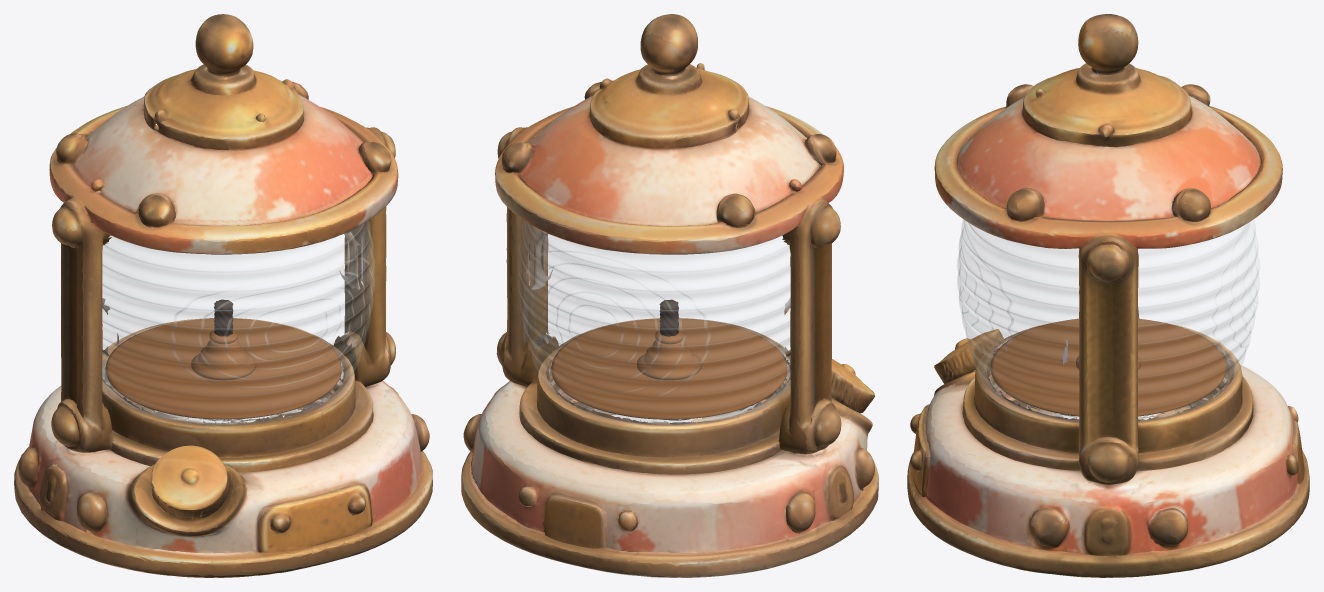
File: B9_灯塔灯头_v4.glb
3 views of the same model, side by side, from view 1: azimuth 30°, elevation 25°; view 2: azimuth 150°, elevation 25°; view 3: azimuth 270°, elevation 25° (orthographic).
Parts seen in each view (by area): view 1: Lux3D_original_cap_frame_base, Rebuilt_glass_barrel, Burner_interior_plate, Rebuilt_burner_base, Front_fresnel_04, Rebuilt_unlit_wick, Front_fresnel_03; view 2: Lux3D_original_cap_frame_base, Rebuilt_glass_barrel, Burner_interior_plate, Rebuilt_burner_base, Rear_fresnel_04, Rebuilt_unlit_wick, Rear_fresnel_03; view 3: Lux3D_original_cap_frame_base, Rebuilt_glass_barrel, Burner_interior_plate.
Part boxes in pixels (x1=…): Lux3D_original_cap_frame_base: x1=14, y1=14, x2=432, y2=577; Rebuilt_glass_barrel: x1=102, y1=221, x2=374, y2=425; Burner_interior_plate: x1=105, y1=318, x2=341, y2=419; Rebuilt_burner_base: x1=191, y1=340, x2=256, y2=380; Front_fresnel_04: x1=171, y1=258, x2=372, y2=387; Rebuilt_unlit_wick: x1=214, y1=299, x2=233, y2=336; Front_fresnel_03: x1=198, y1=272, x2=364, y2=379; Lux3D_original_cap_frame_base: x1=461, y1=14, x2=878, y2=577; Rebuilt_glass_barrel: x1=518, y1=221, x2=790, y2=425; Burner_interior_plate: x1=551, y1=318, x2=787, y2=419; Rebuilt_burner_base: x1=637, y1=340, x2=701, y2=380; Rear_fresnel_04: x1=523, y1=251, x2=710, y2=401; Rebuilt_unlit_wick: x1=659, y1=299, x2=678, y2=336; Rear_fresnel_03: x1=531, y1=263, x2=685, y2=392; Lux3D_original_cap_frame_base: x1=907, y1=14, x2=1309, y2=577; Rebuilt_glass_barrel: x1=957, y1=220, x2=1259, y2=422; Burner_interior_plate: x1=990, y1=318, x2=1226, y2=416.
Size of the model in its own units: 0.7995 by 1 by 0.768.
5 materials, 1 textured.
